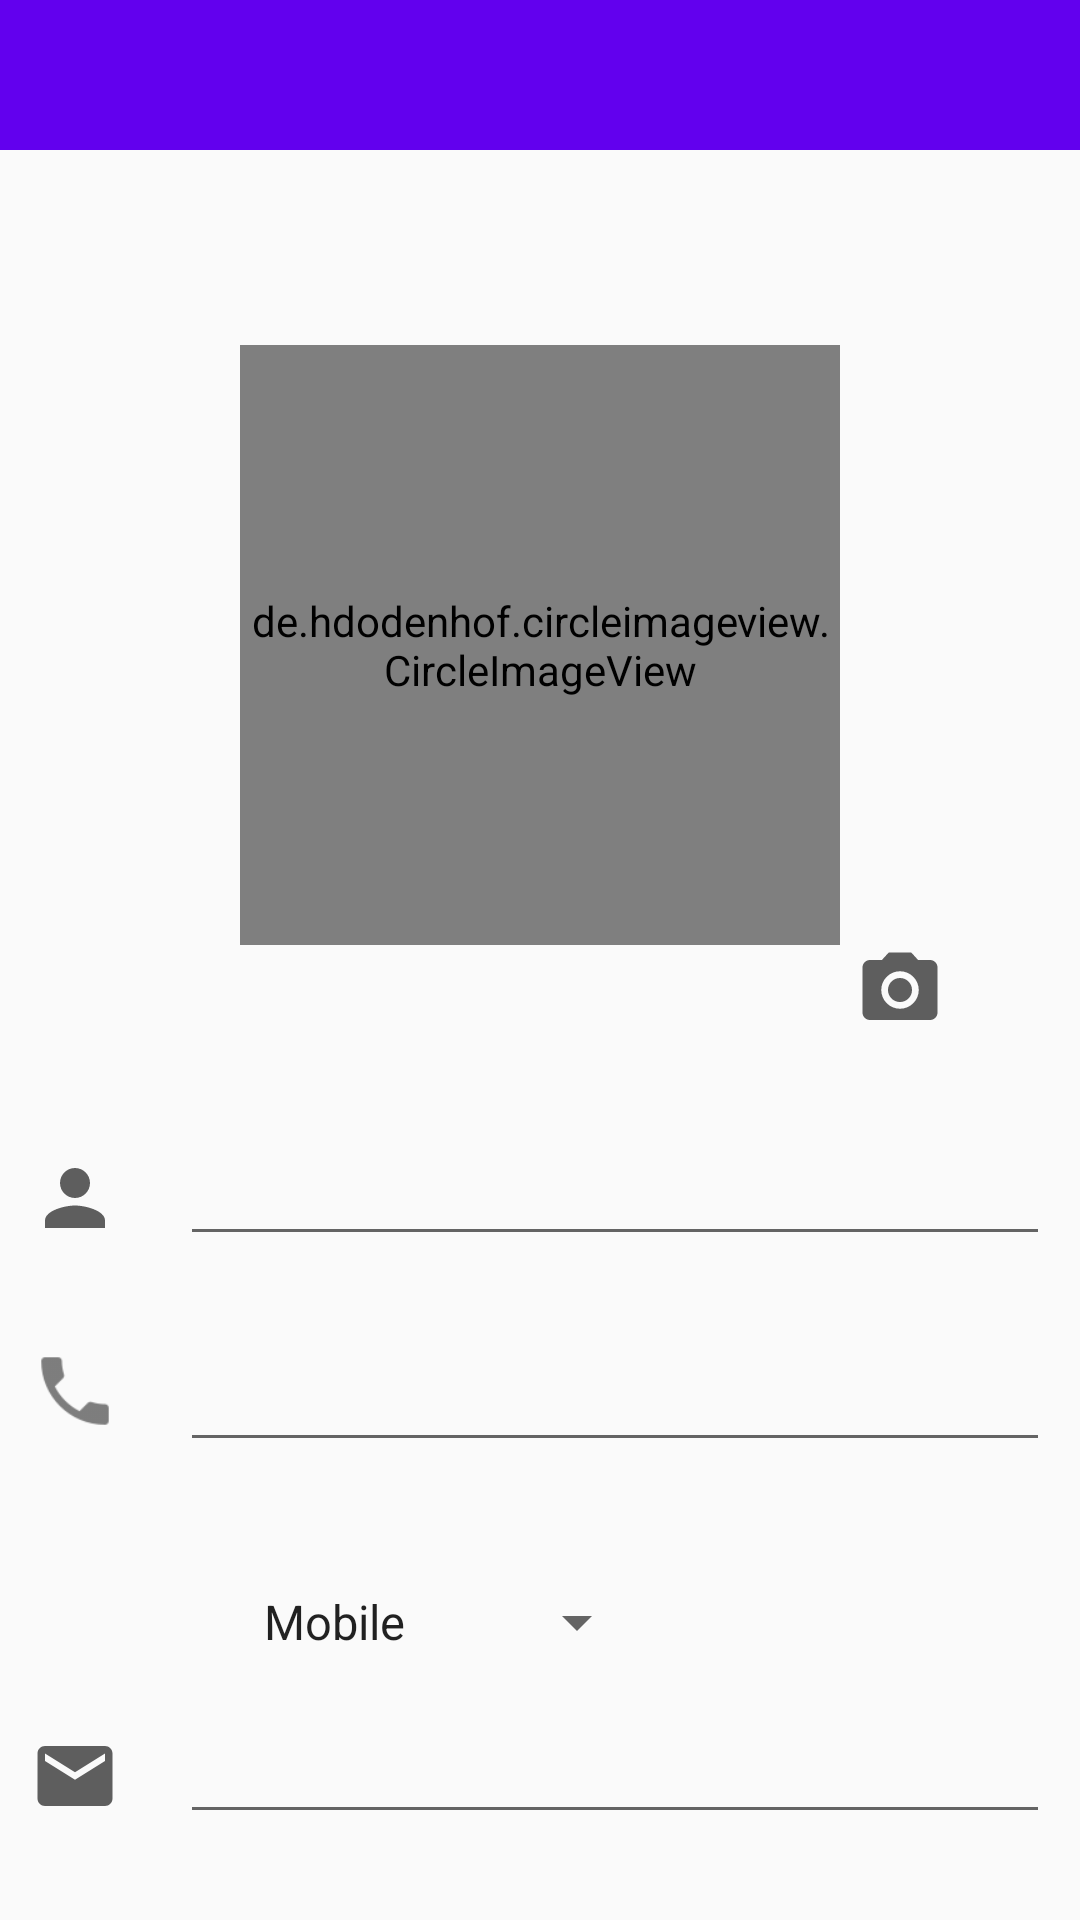

Locate icon controls on the screen. Image size 1080px×1920px, boxes as bbox=[x1, y1, x2, y2].
camera: bbox=[862, 952, 938, 1020]
email: bbox=[37, 1746, 113, 1806]
person: bbox=[45, 1168, 105, 1228]
phone: bbox=[41, 1357, 109, 1425]
